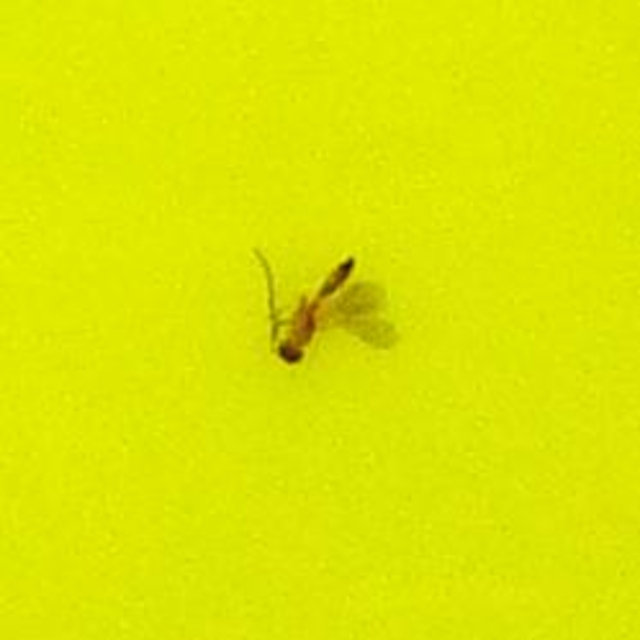Hymenoptera: (257, 257, 383, 383)
